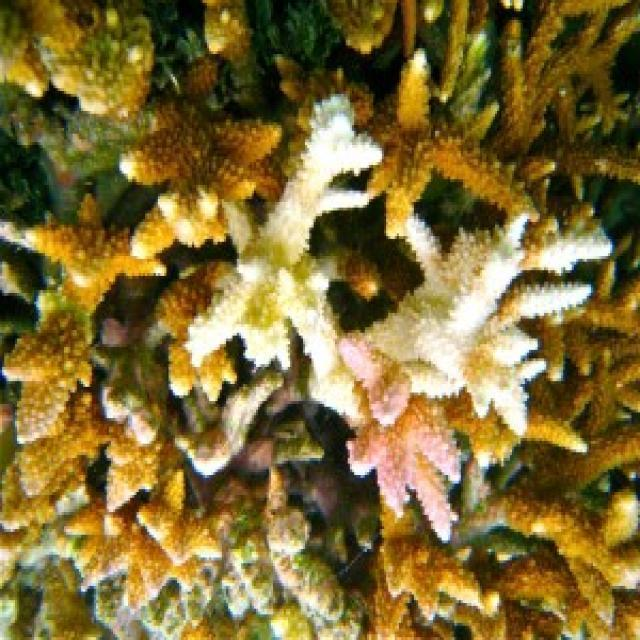Bleached: (349, 205, 616, 439), (199, 98, 391, 372)
Healthy: (1, 1, 198, 608), (390, 1, 640, 198), (381, 542, 640, 640), (125, 107, 270, 269)
